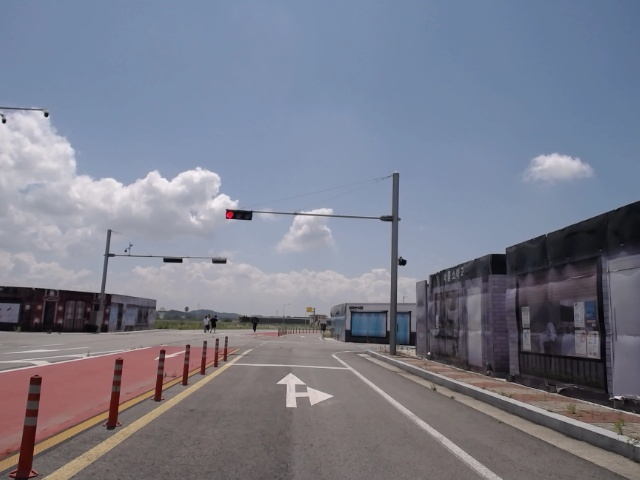red_3: (225, 208, 254, 221)
